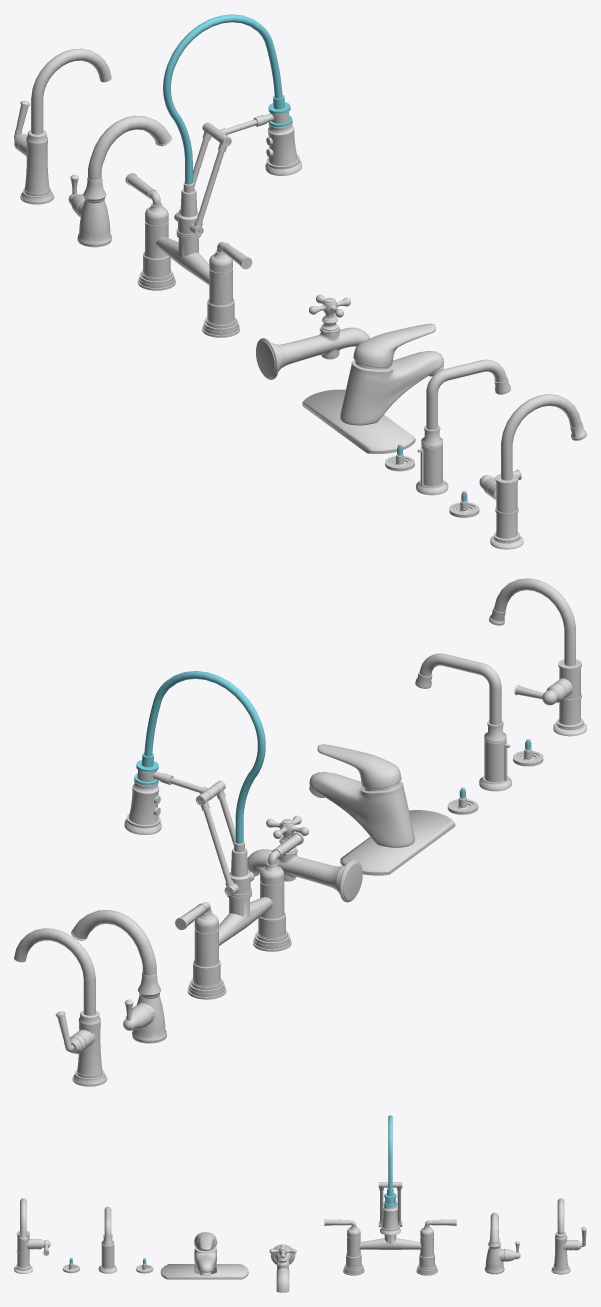
The model's file is faucet-transformed.glb.
The picture shows the model from 3 angles, top to bottom: view 1: azimuth 30°, elevation 25°; view 2: azimuth 150°, elevation 25°; view 3: azimuth 270°, elevation 25°; orthographic projection. The views are drawn at different scales.
Visible parts, largest first — view 1: pipa4, pipa6, pipa7, pipa1, pipa2, pipa3, pipa5; view 2: pipa4, pipa6, pipa7, pipa1, pipa2, pipa3, pipa5; view 3: pipa4, pipa6, pipa7, pipa2, pipa1, pipa3, pipa5.
Boxes of the visible parts, x1,y1,x2,y2 form: pipa4: (125,14,301,337); pipa6: (302,323,443,453); pipa7: (385,359,510,517); pipa1: (479,394,586,549); pipa2: (14,48,111,204); pipa3: (68,115,171,247); pipa5: (256,294,370,379); pipa4: (124,671,303,999); pipa6: (309,744,455,875); pipa7: (415,653,543,814); pipa1: (489,578,586,736); pipa2: (14,928,107,1086); pipa3: (71,909,166,1043); pipa5: (247,815,362,902); pipa4: (324,1115,456,1275); pipa6: (160,1232,248,1279); pipa7: (62,1206,153,1273); pipa2: (551,1198,586,1274); pipa1: (14,1198,50,1273); pipa3: (484,1212,520,1274); pipa5: (269,1244,296,1292).
Bounding box in the file's own units: 0.2483 × 0.4928 × 1.59.
